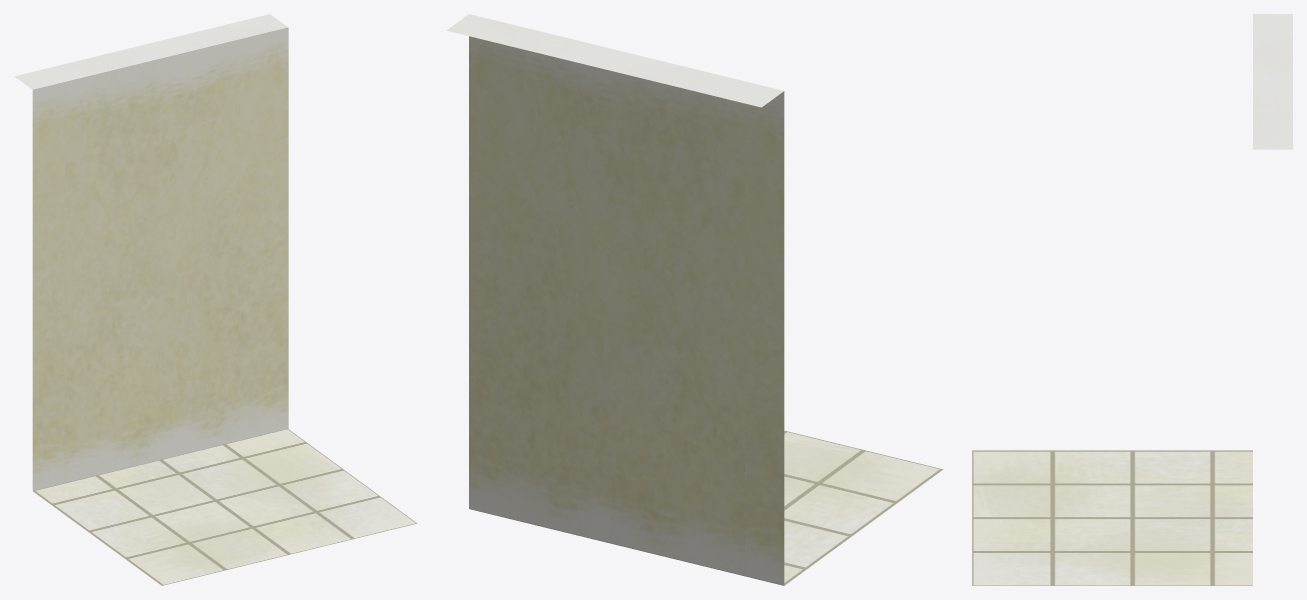
File: maze_3wayNoColumn.FBX
3 views of the same model, side by side, from view 1: azimuth 30°, elevation 25°; view 2: azimuth 150°, elevation 25°; view 3: azimuth 270°, elevation 25° (orthographic). The views are drawn at different scales.
Parts seen in each view (by area): view 1: Plane01; view 2: Plane01; view 3: Plane01.
Part boxes in pixels (x1,y1,x2,y2): Plane01: (14, 14, 417, 585); Plane01: (446, 14, 943, 585); Plane01: (972, 14, 1292, 585).
Bounding box in the file's own units: 32 × 48 × 32.
